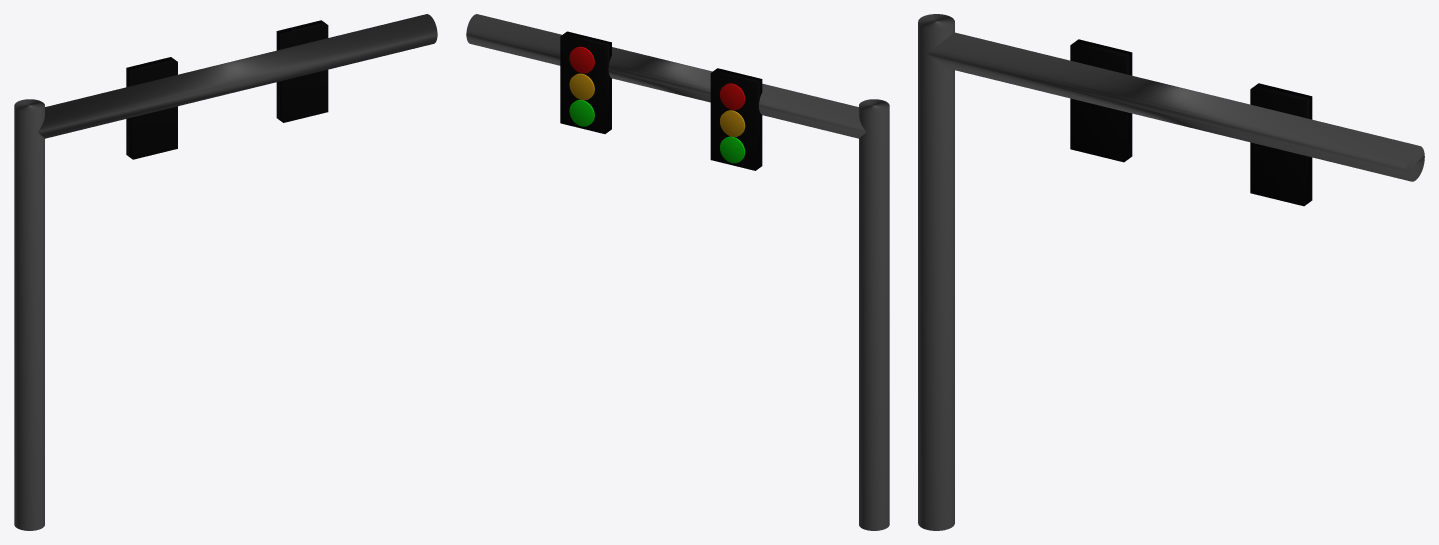
File: TrafficLight.fbx
3 views of the same model, side by side, from view 1: azimuth 30°, elevation 25°; view 2: azimuth 150°, elevation 25°; view 3: azimuth 330°, elevation 25° (orthographic). The views are drawn at different scales.
Visible parts, largest first — view 1: Cylinder, Cylinder.003, Cylinder.002; view 2: Cylinder, Cylinder.002, Cylinder.003; view 3: Cylinder, Cylinder.003, Cylinder.002.
Boxes of the visible parts, left/top/right/bottom form: Cylinder: left=14, top=14, right=437, bottom=530; Cylinder.003: left=276, top=20, right=328, bottom=122; Cylinder.002: left=126, top=57, right=177, bottom=159; Cylinder: left=466, top=14, right=889, bottom=530; Cylinder.002: left=710, top=68, right=762, bottom=170; Cylinder.003: left=560, top=31, right=611, bottom=133; Cylinder: left=918, top=14, right=1424, bottom=530; Cylinder.003: left=1250, top=83, right=1312, bottom=206; Cylinder.002: left=1070, top=39, right=1132, bottom=162.
Bounding box in the file's own units: 9.4 × 9.18 × 0.8014.
